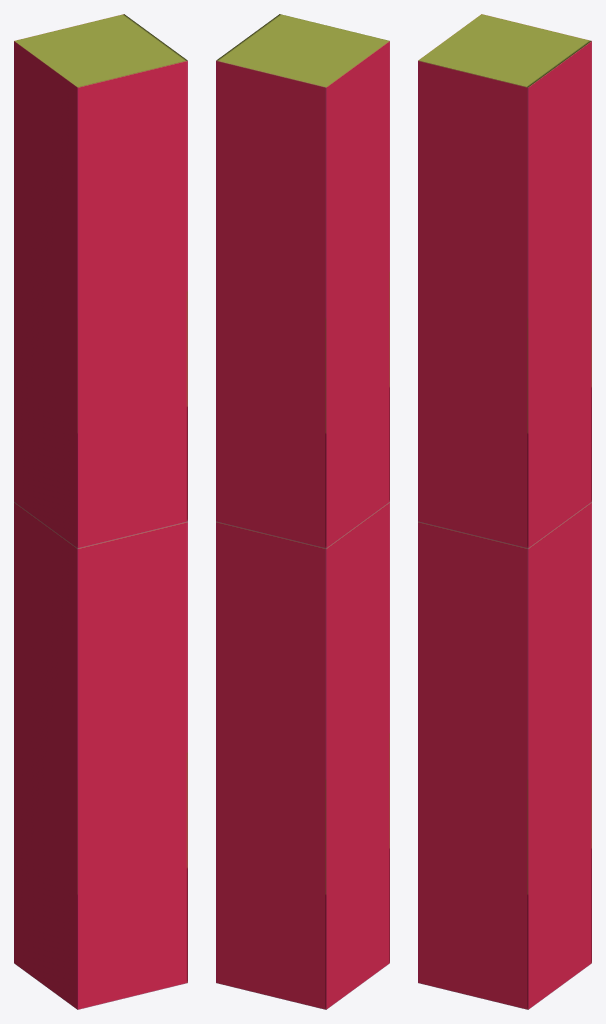
File: MK_Pillar_C_Double.fbx
3 views of the same model, side by side, from view 1: azimuth 30°, elevation 25°; view 2: azimuth 150°, elevation 25°; view 3: azimuth 330°, elevation 25° (orthographic).
Visible parts, largest first — view 1: Pillar_C_Double; view 2: Pillar_C_Double; view 3: Pillar_C_Double.
Part boxes in pixels (x1,y1,x2,y2): Pillar_C_Double: (14,14,187,1009); Pillar_C_Double: (216,14,389,1009); Pillar_C_Double: (418,14,591,1009).
Size of the model in its own units: 45 by 360 by 45.
1 material, 1 textured.
